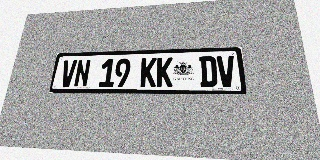1: (99, 59, 116, 87)
9: (114, 58, 131, 87)
D: (199, 56, 218, 87)
K: (156, 57, 173, 87), (140, 58, 157, 87)
N: (73, 59, 91, 87)
V: (216, 56, 236, 87), (59, 60, 77, 87)
